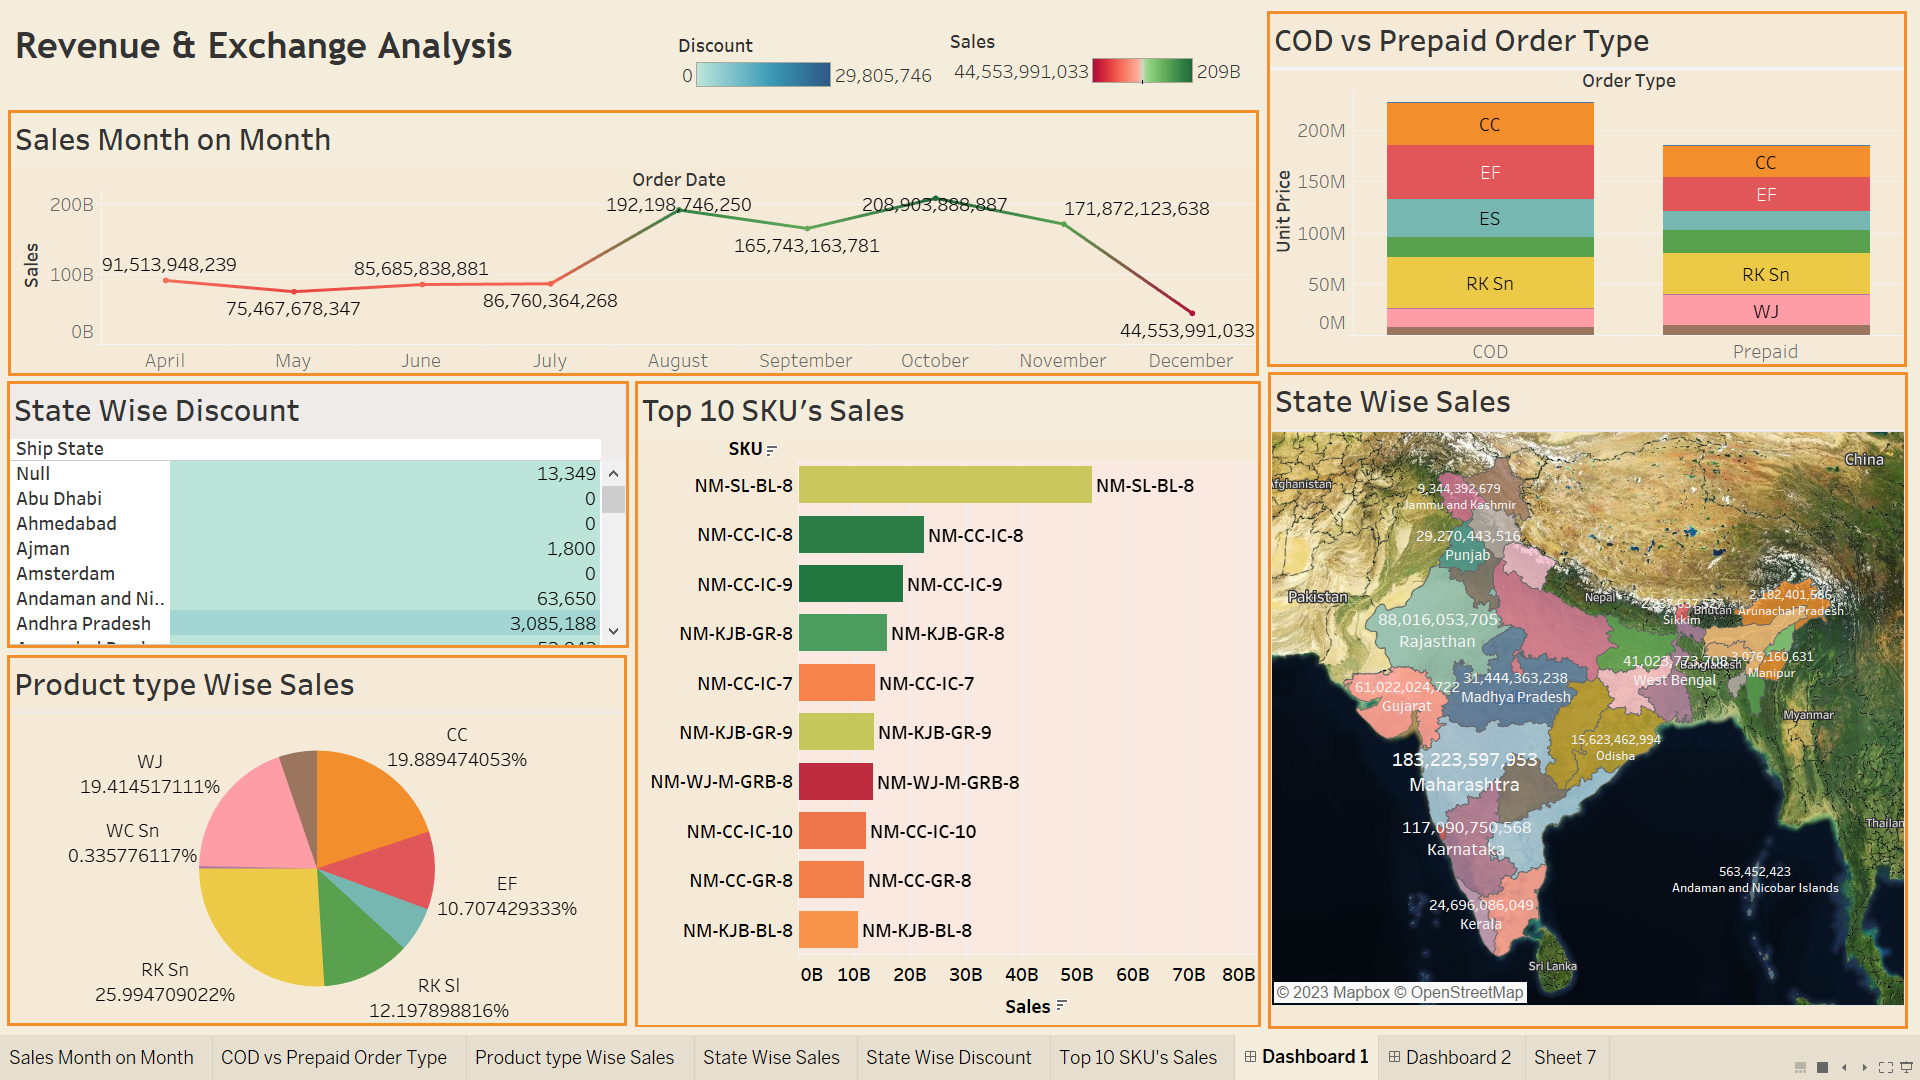

This screenshot's page, from the dashboard's own definition file:
{"tool":"tableau","page":{"name":"Dashboard 1","canvas":[1000,1000],"units":"permille","ordinal":0},"visuals":[{"type":"title","box":[5,9.8,990,91.7]},{"type":"worksheet","title":"COD vs Prepaid Order Type","mark":"Automatic","rows":["Unit Price"],"cols":["Order Type"],"box":[660,11,333.1,343.5]},{"type":"legend","title":"Sales Month on Month","param":"[federated.04fmhyz1dho4x40zx6tyx10a8pe1].[sum:Calculation_652177551209062400:qk]","box":[495,26.9,154.3,56.2]},{"type":"legend","title":"State Wise Discount","param":"[federated.04fmhyz1dho4x40zx6tyx10a8pe1].[sum:Discount:qk]","box":[353.2,30.6,134.9,53.8]},{"type":"worksheet","title":"Sales Month on Month","mark":"Automatic","rows":["Calculation_652177551209062400"],"cols":["OrderDate"],"box":[4.4,106.4,651.8,256.7]},{"type":"worksheet","title":"State Wise Sales","mark":"Multipolygon","box":[660.6,359.4,333.1,634.5]},{"type":"worksheet","title":"State Wise Discount","mark":"Square","rows":["Ship State"],"box":[3.8,368,323.7,257.9]},{"type":"worksheet","title":"Top 10 SKU's Sales","mark":"Automatic","rows":["SKU"],"cols":["Calculation_652177551209062400"],"box":[330.6,368,326.2,624.7]},{"type":"worksheet","title":"Product type Wise Sales","mark":"Pie","box":[3.8,633.2,323.1,358.2]}]}

Visuals, with their boxes on the dashboard's canvas, which has no fixed pixel size, in thousandths of its width and height (x1, y1, x2, y2). These are canvas units, not pixel positions in the 1920x1080 screenshot, which may show the page scaled, cropped or inside an application window:
title: rect(5, 10, 995, 102)
"COD vs Prepaid Order Type" worksheet: rect(660, 11, 993, 354)
"Sales Month on Month" legend: rect(495, 27, 649, 83)
"State Wise Discount" legend: rect(353, 31, 488, 84)
"Sales Month on Month" worksheet: rect(4, 106, 656, 363)
"State Wise Sales" worksheet (Multipolygon marks): rect(661, 359, 994, 994)
"State Wise Discount" worksheet (Square marks): rect(4, 368, 328, 626)
"Top 10 SKU's Sales" worksheet: rect(331, 368, 657, 993)
"Product type Wise Sales" worksheet (Pie marks): rect(4, 633, 327, 991)
